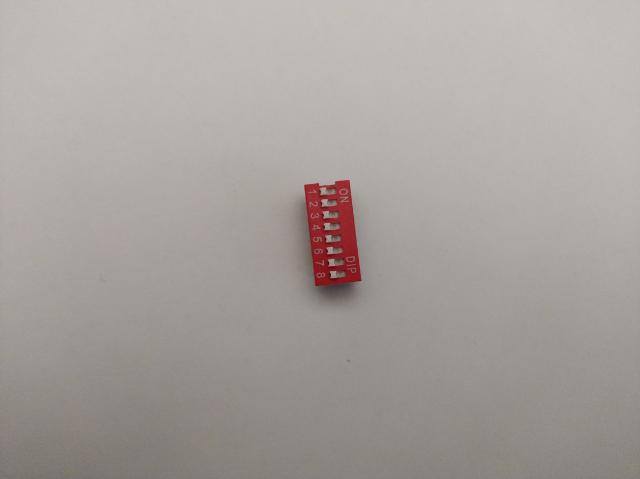dip_switch: (304, 178, 362, 288)
